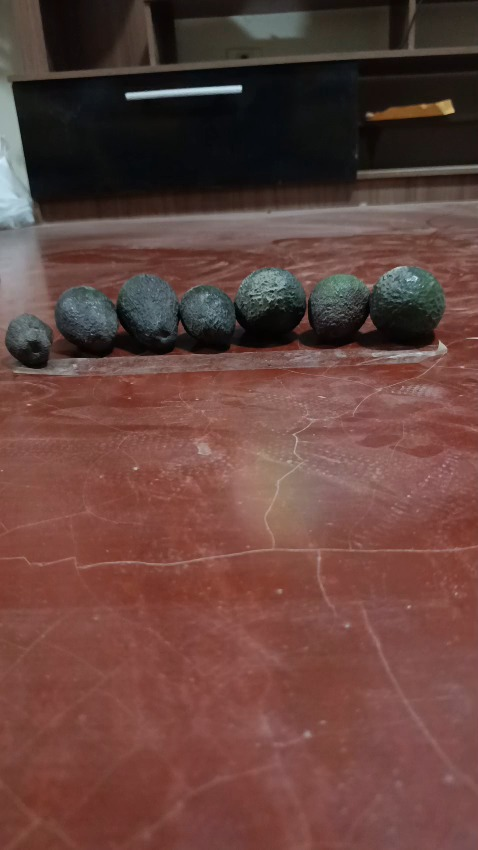Primera: (368, 265, 446, 343), (233, 266, 307, 338), (115, 272, 180, 352)
Segunda: (307, 272, 371, 343), (54, 285, 118, 354), (178, 284, 236, 348)
Tercera: (4, 313, 54, 367)
